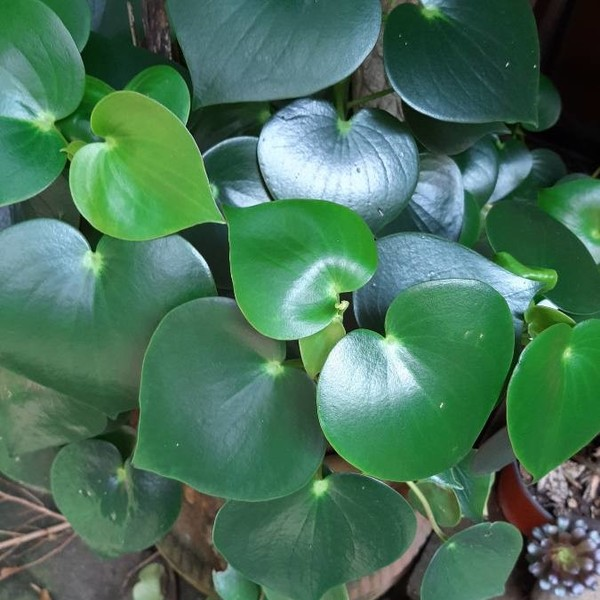obstacle: (15, 43, 531, 574)
